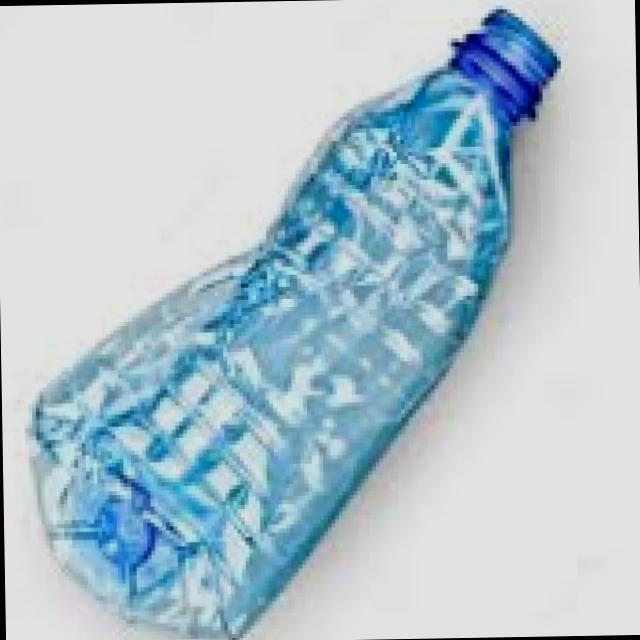Trash: (28, 12, 562, 640)
